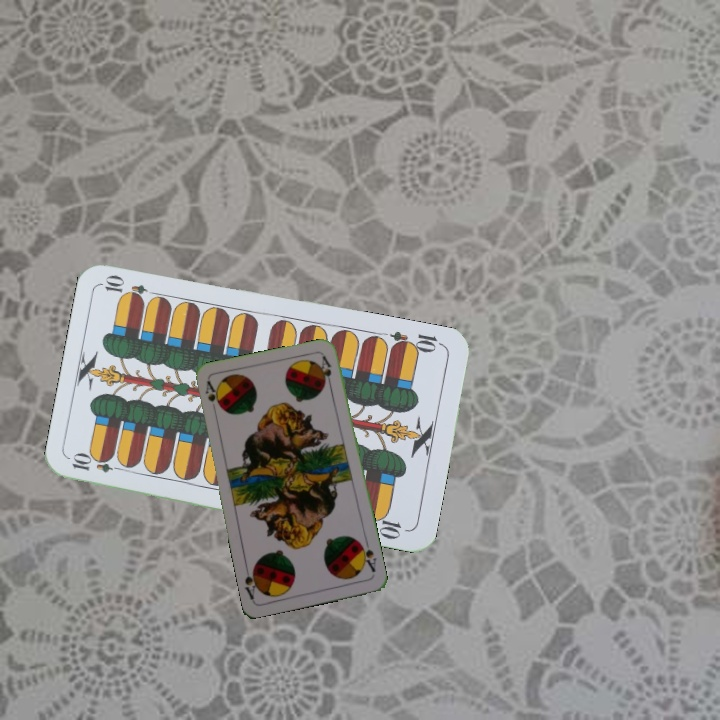E10: (387, 327, 446, 356), (68, 452, 127, 476)
SA: (355, 537, 379, 575), (201, 377, 224, 412)
